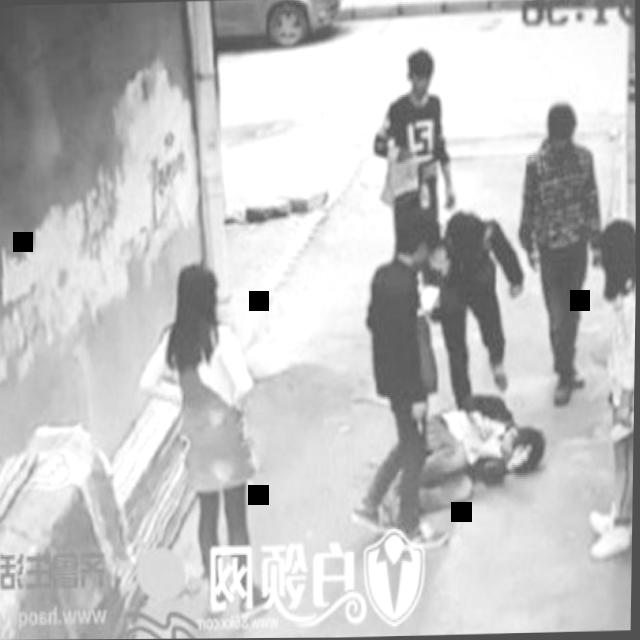Fall-Detected: (358, 376, 559, 532)
